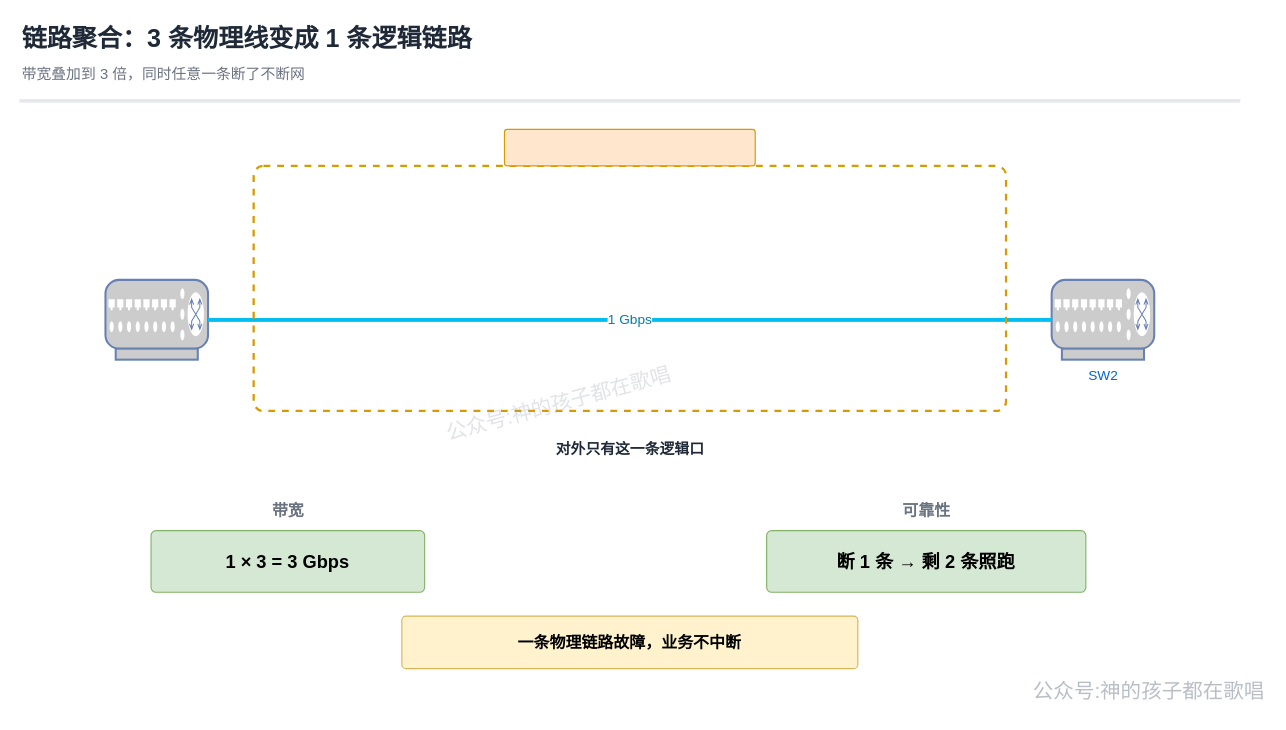
Some shapes in this 1286 by 730 pixel diagram are drawn without their labels. The shapes that lost their labels are listed below. From the top down, each one's centre as x and y in pixels, then its label:
At [629,147]: "Eth-Trunk 1（逻辑链路）".
At [156,319]: "SW1".
